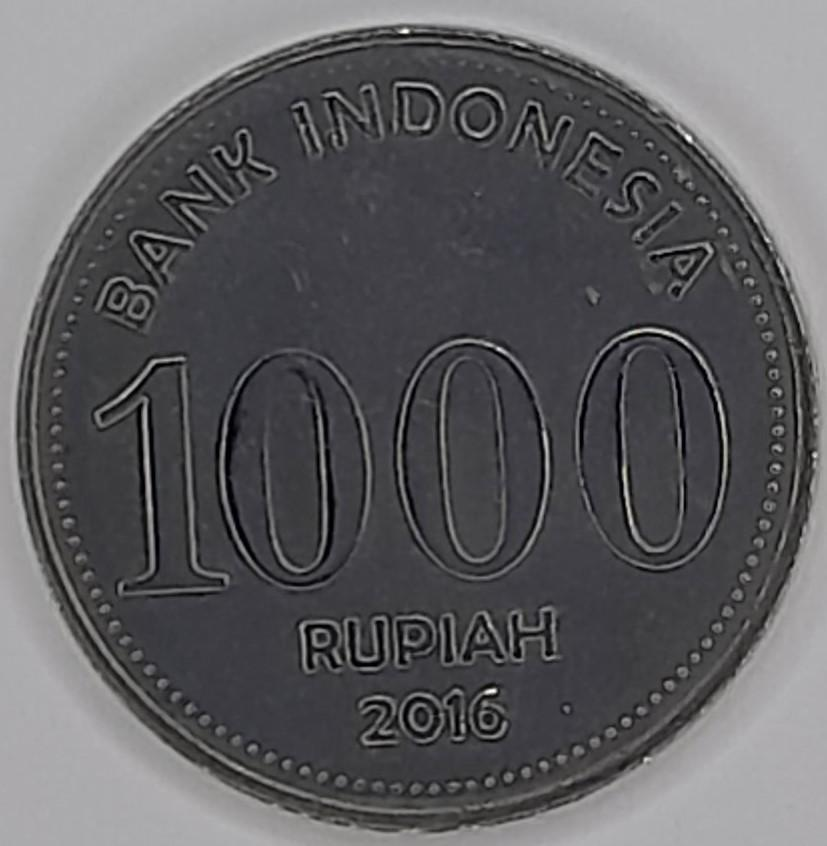coin_1000_e2016: (14, 17, 816, 846)
